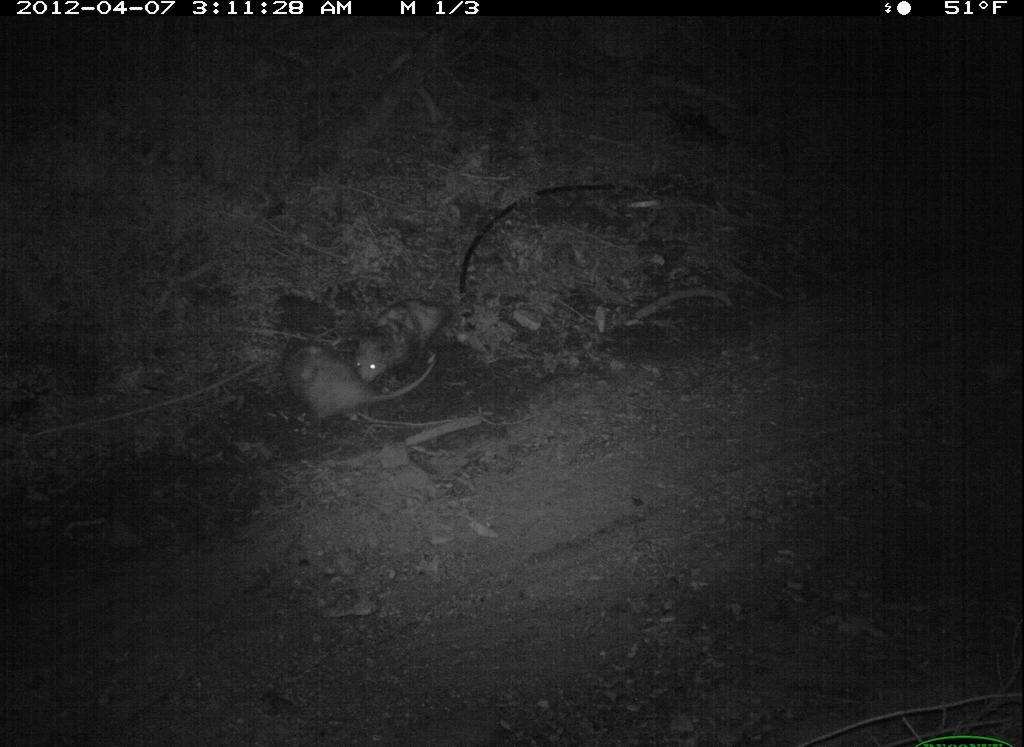opossum: (264, 326, 445, 438), (354, 290, 470, 392)
